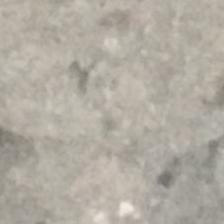Non_Crack: (32, 29, 224, 204)
